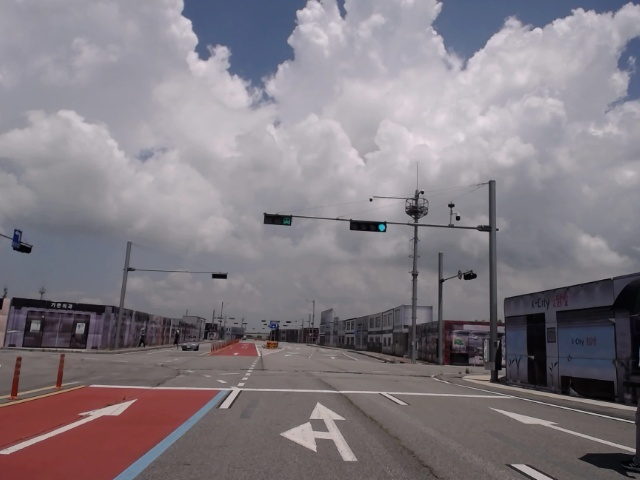straight_green_4: (350, 220, 386, 232)
